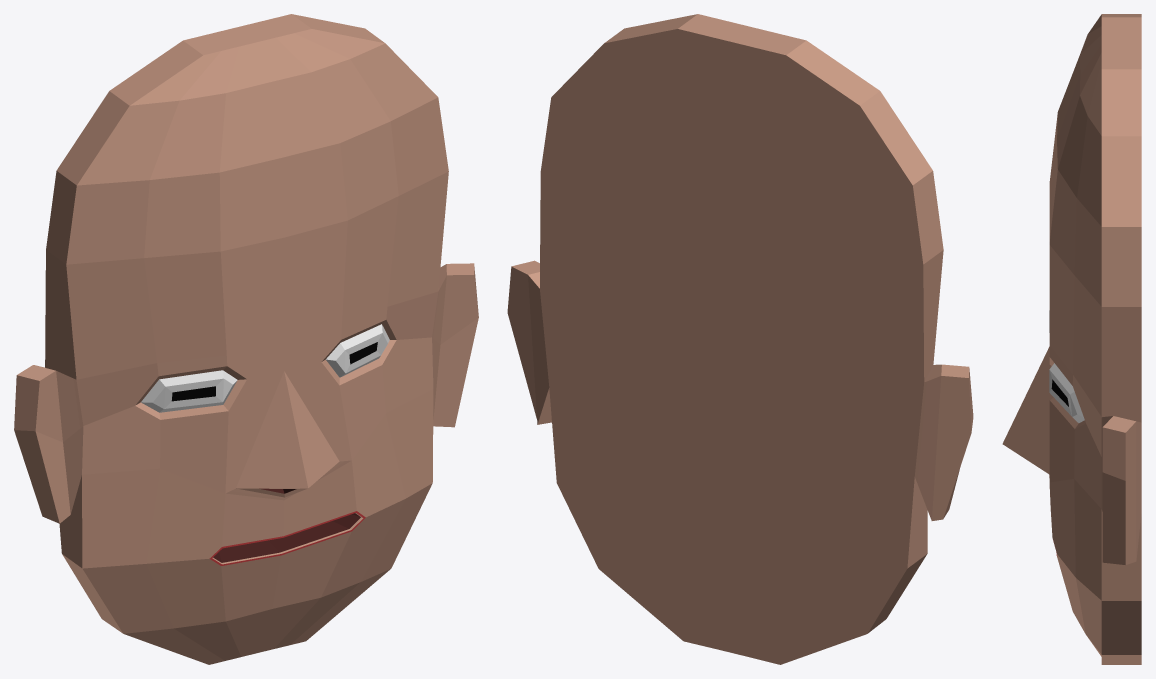
File: gesicht2.glb
The picture shows the model from 3 angles, left to right: view 1: azimuth 30°, elevation 25°; view 2: azimuth 150°, elevation 25°; view 3: azimuth 270°, elevation 25°; orthographic projection. The views are drawn at different scales.
Parts seen in each view (by area): view 1: spahn; view 2: spahn; view 3: spahn.
Part boxes in pixels (<box>): spahn: <box>14,14,478,664</box>; spahn: <box>507,14,973,664</box>; spahn: <box>1002,14,1141,664</box>.
Bounding box in the file's own units: 1.12 × 1.41 × 0.2965.
